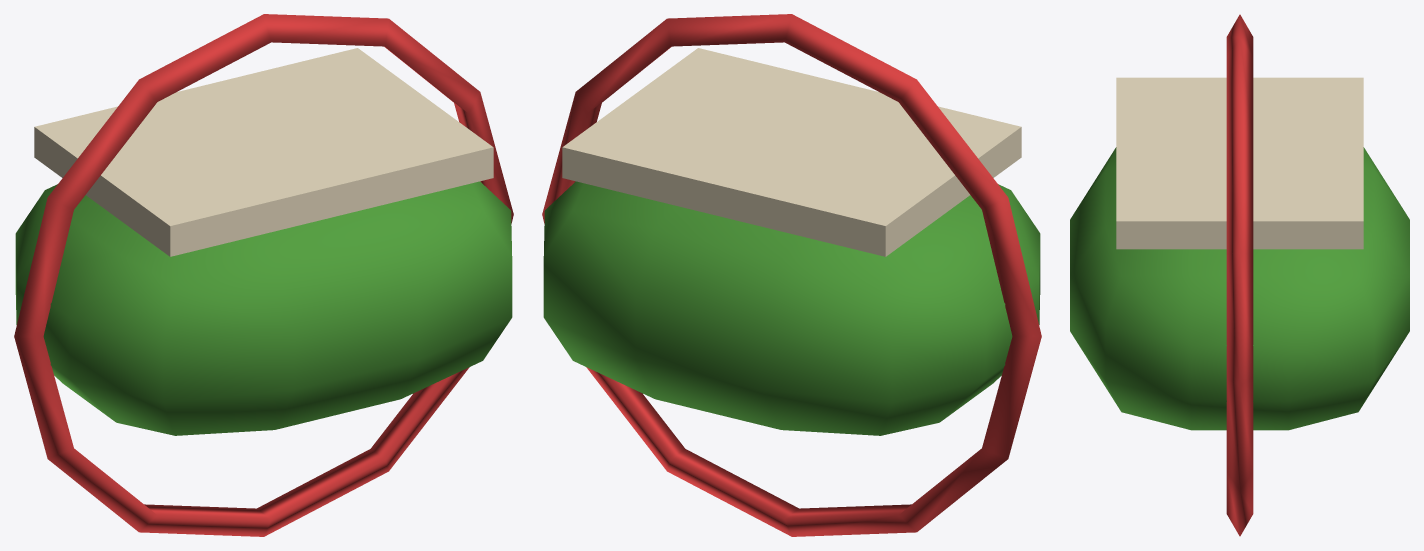
The model's file is prop_pickup_nasi.glb.
The picture shows the model from 3 angles, left to right: view 1: azimuth 30°, elevation 25°; view 2: azimuth 150°, elevation 25°; view 3: azimuth 270°, elevation 25°; orthographic projection. The views are drawn at different scales.
Visible parts, largest first — view 1: pickup_nasi; view 2: pickup_nasi; view 3: pickup_nasi.
Part boxes in pixels (left/top/right/bottom): pickup_nasi: left=14, top=14, right=513, bottom=536; pickup_nasi: left=542, top=14, right=1041, bottom=536; pickup_nasi: left=1070, top=14, right=1409, bottom=536.
Bounding box in the file's own units: 0.34 × 0.34 × 0.22.
